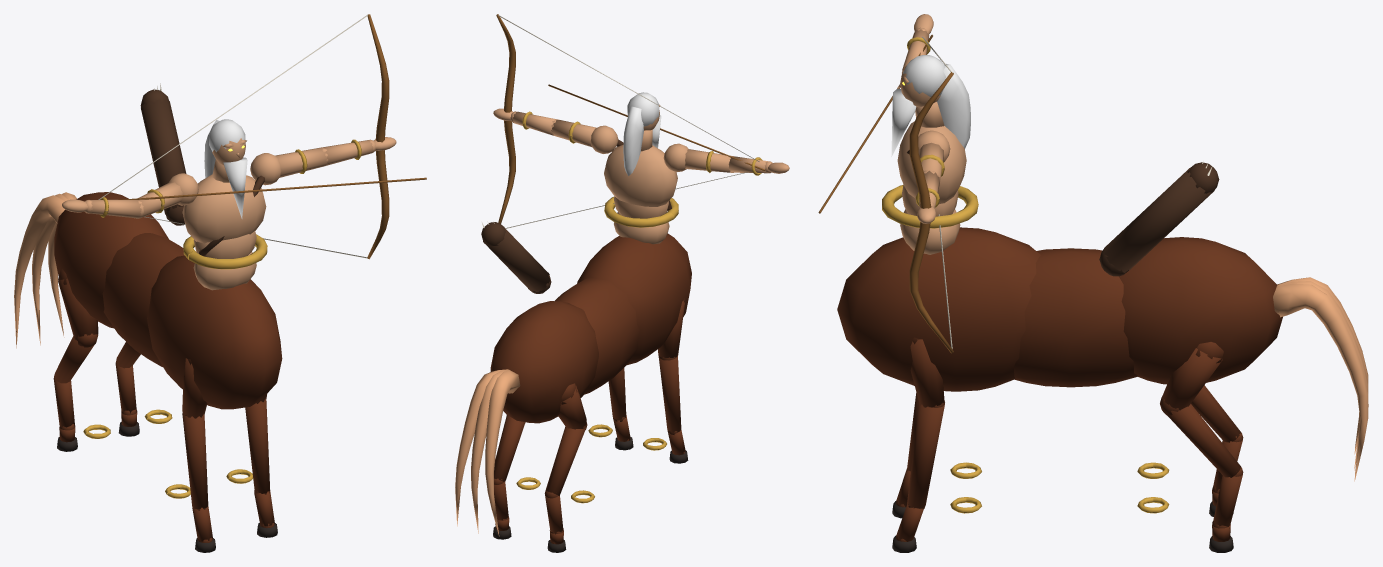
The model's file is centaur.glb.
The picture shows the model from 3 angles, left to right: view 1: azimuth 30°, elevation 25°; view 2: azimuth 150°, elevation 25°; view 3: azimuth 270°, elevation 25°; orthographic projection. The views are drawn at different scales.
Visible parts, largest first — view 1: body, torso, hand_L, leg_FR, tail, leg_HR, leg_FL, head, upperarm_L, leg_HL, upperarm_R, pelvis (+2 smaller); view 2: body, torso, tail, leg_HR, hand_L, leg_FR, head, leg_HL, upperarm_L, upperarm_R, leg_FL, pelvis (+2 smaller); view 3: body, leg_HL, leg_FL, torso, tail, head, hand_L, leg_HR, upperarm_L, pelvis, leg_FR.
Boxes of the visible parts, x1,y1,x2,y2 form: body: [54, 83, 282, 498]; torso: [182, 159, 267, 269]; hand_L: [98, 14, 426, 259]; leg_FR: [182, 358, 215, 552]; tail: [14, 192, 76, 348]; leg_HR: [53, 268, 98, 451]; leg_FL: [245, 394, 277, 537]; head: [204, 119, 247, 218]; upperarm_L: [250, 147, 327, 185]; leg_HL: [115, 342, 140, 436]; upperarm_R: [137, 173, 198, 218]; pelvis: [193, 252, 256, 290]; body: [481, 221, 691, 503]; torso: [604, 129, 678, 227]; tail: [455, 369, 520, 536]; leg_HR: [544, 383, 587, 552]; hand_L: [493, 14, 765, 228]; leg_FR: [658, 298, 688, 463]; head: [623, 92, 661, 175]; leg_HL: [493, 415, 525, 539]; upperarm_L: [551, 119, 618, 153]; upperarm_R: [663, 143, 733, 172]; leg_FL: [608, 368, 633, 450]; pelvis: [614, 212, 669, 244]; body: [837, 161, 1282, 513]; leg_HL: [1160, 342, 1243, 552]; leg_FL: [892, 337, 944, 552]; torso: [882, 101, 978, 228]; tail: [1273, 277, 1368, 481]; head: [891, 55, 970, 156]; hand_L: [818, 34, 953, 353]; leg_HR: [1191, 385, 1243, 516]; upperarm_L: [918, 130, 950, 183]; pelvis: [900, 209, 960, 254]; leg_FR: [892, 392, 919, 518].
Bounding box in the file's own units: 2.07 × 2.81 × 2.57.
